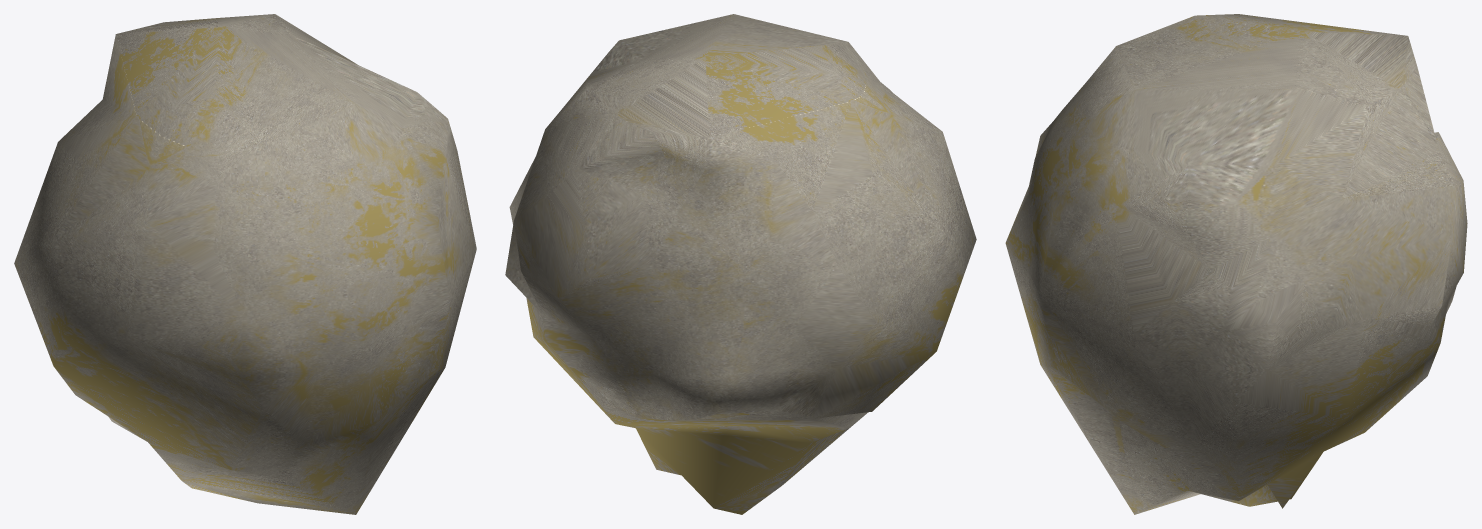
File: Asteroid .fbx
3 renders of one model, left to right at view 1: azimuth 30°, elevation 25°; view 2: azimuth 150°, elevation 25°; view 3: azimuth 270°, elevation 25°, orthographic. The views are drawn at different scales.
Visible parts, largest first — view 1: pPlatonic1; view 2: pPlatonic1; view 3: pPlatonic1.
Boxes of the visible parts, <box> form: pPlatonic1: <box>14,14,476,514</box>; pPlatonic1: <box>505,14,976,514</box>; pPlatonic1: <box>1005,14,1467,514</box>.
Size of the model in its own units: 2.06 by 2.22 by 1.98.
